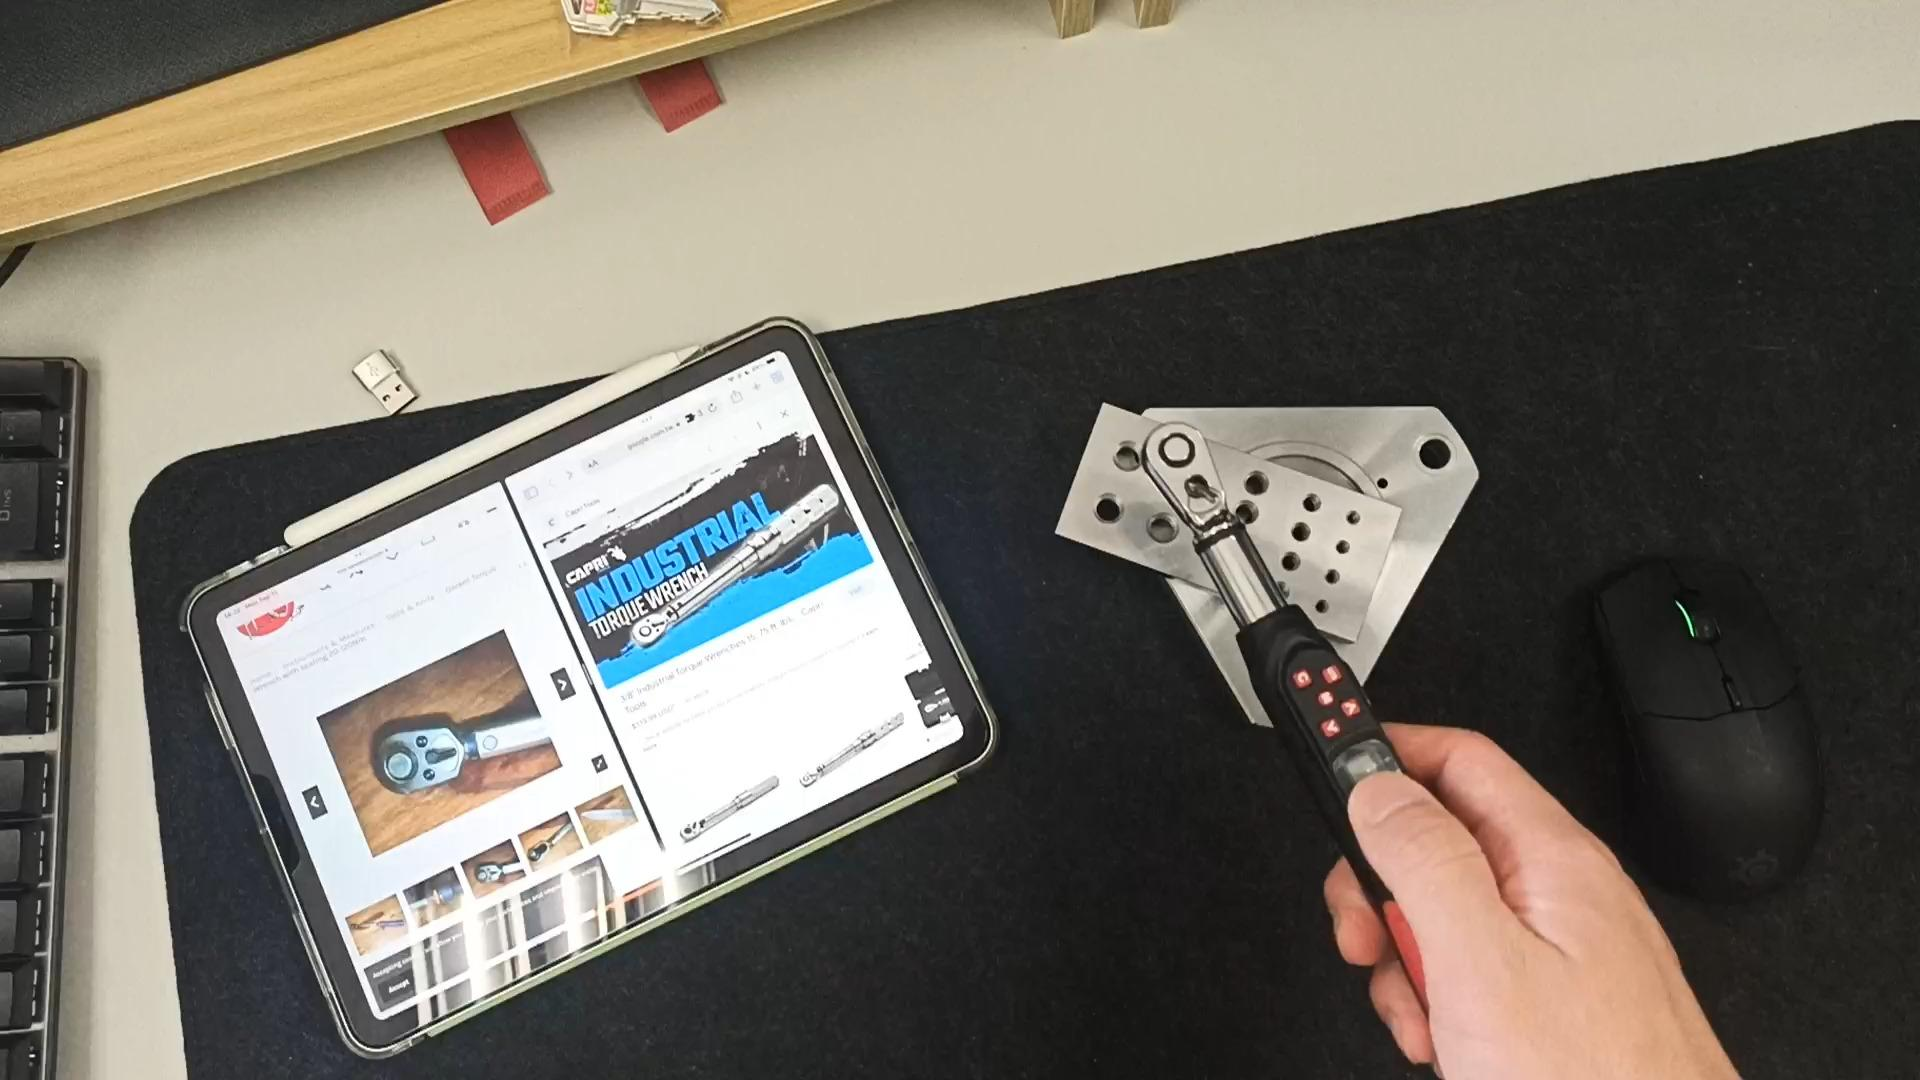Tool: (1137, 422, 1227, 523), (368, 726, 469, 793), (629, 613, 671, 648)
hole: (1399, 439, 1463, 483), (1086, 498, 1140, 534), (1136, 511, 1183, 550), (1108, 446, 1151, 482), (1238, 472, 1282, 498), (1231, 499, 1273, 526), (1295, 494, 1335, 518), (1273, 554, 1311, 576), (1341, 508, 1376, 529), (1287, 521, 1321, 541), (1333, 538, 1367, 557), (1322, 570, 1354, 588), (1307, 599, 1338, 615)
